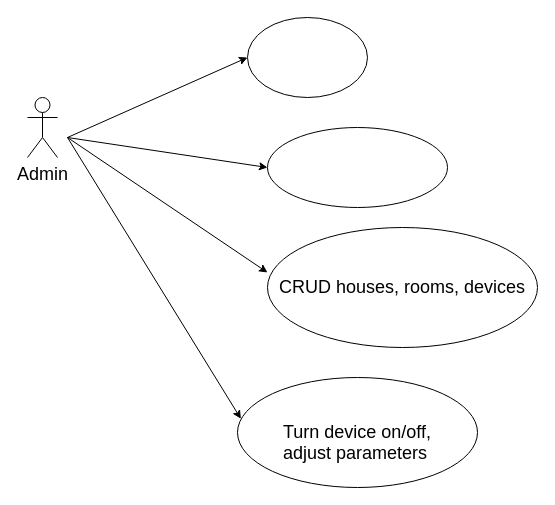
Image size: 555x505. Some labels were removed from this diagram. The centre of each missing label's shape, as x and y in pixels:
"CRUD users" belongs at (357,167).
"Sign in" belongs at (307,57).
